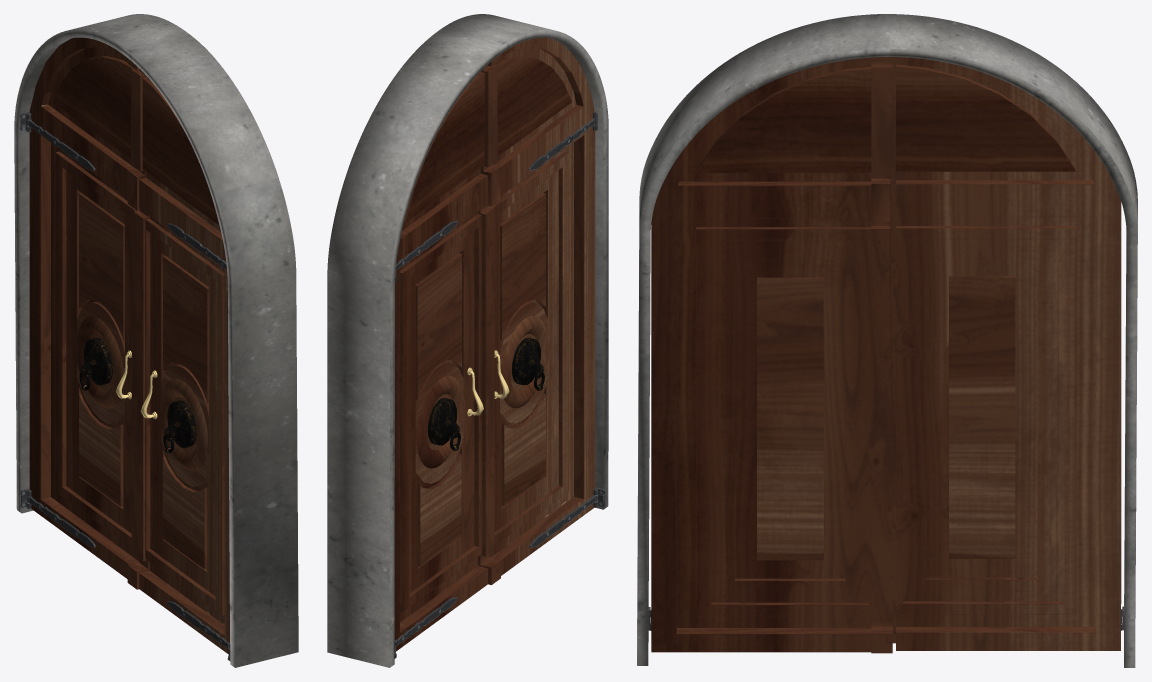
The picture shows the model from 3 angles, left to right: view 1: azimuth 30°, elevation 25°; view 2: azimuth 150°, elevation 25°; view 3: azimuth 270°, elevation 25°; orthographic projection. The views are drawn at different scales.
Parts seen in each view (by area): view 1: Jamb, Object_18, Object_16; view 2: Object_16, Jamb, Object_18; view 3: Object_16, Object_18, Jamb.
Boxes of the visible parts, left/top/right/bottom form: Jamb: left=14, top=14, right=298, bottom=667; Object_18: left=19, top=37, right=138, bottom=578; Object_16: left=127, top=58, right=230, bottom=660; Object_16: left=477, top=37, right=604, bottom=584; Jamb: left=327, top=14, right=608, bottom=667; Object_18: left=394, top=72, right=487, bottom=658; Object_16: left=648, top=57, right=892, bottom=653; Object_18: left=890, top=57, right=1123, bottom=650; Jamb: left=637, top=14, right=1137, bottom=667.
Size of the model in its own units: 0.5482 by 4.33 by 3.18.
Materials: 1 (1 with a texture image).
